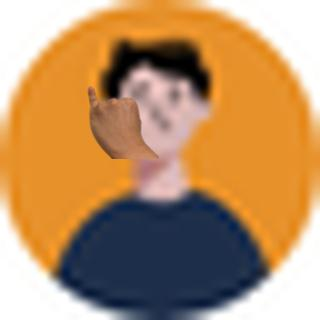FINE: (83, 86, 145, 151)
